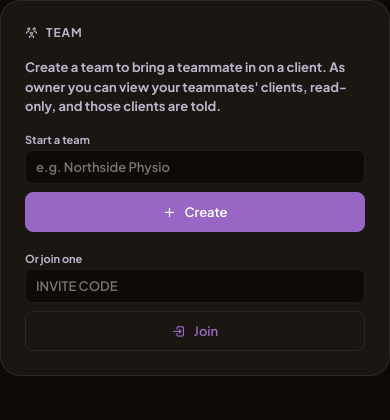
Test: TeamCard — not on a team › will not join with no code
What coordinates should you click on to do the following:
click the button "Join"
I would click on:
 (195, 330)
Its box is [25,310,365,350].
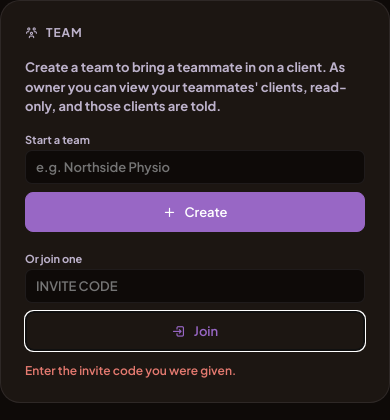
Expected: the message shows "Enter the invite code", [25,362,236,378]
